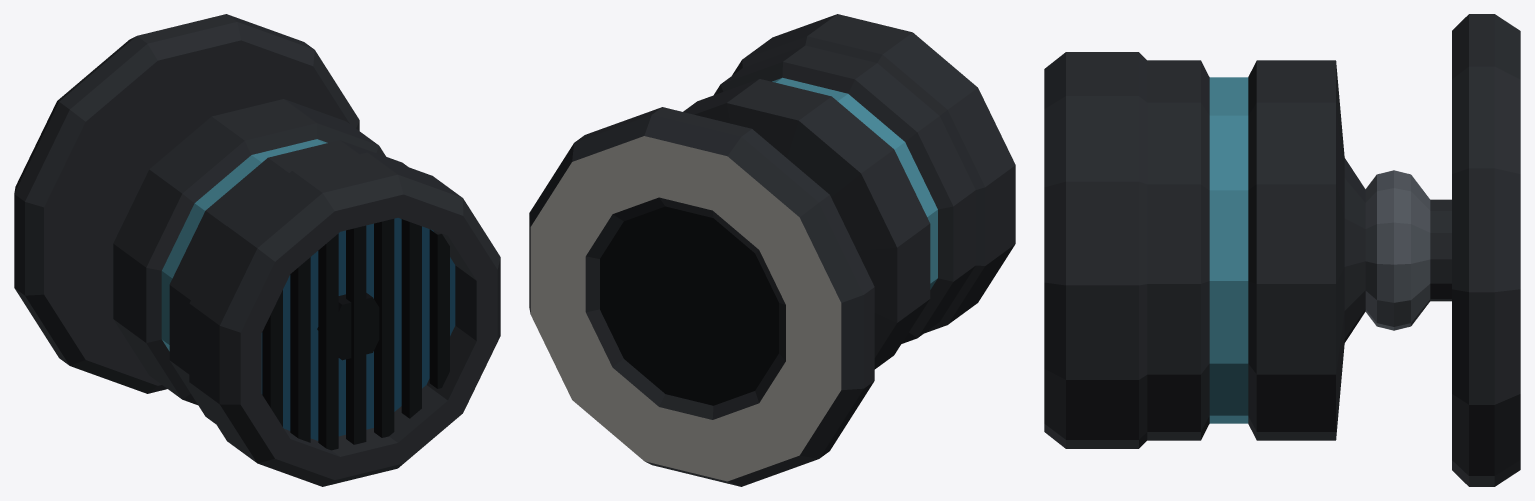
File: wavemaker-powerhead-fe0da2.glb
3 views of the same model, side by side, from view 1: azimuth 30°, elevation 25°; view 2: azimuth 150°, elevation 25°; view 3: azimuth 270°, elevation 25° (orthographic). The views are drawn at different scales.
Parts seen in each view (by area): view 1: head, mount; view 2: mount, head; view 3: head, mount.
Part boxes in pixels (x1,y1,x2,y2): head: [113, 99, 500, 486]; mount: [14, 14, 359, 393]; mount: [529, 107, 874, 486]; head: [683, 14, 1015, 369]; head: [1044, 52, 1365, 448]; mount: [1365, 14, 1520, 486].
Bounding box in the file's own units: 0.1082 × 0.1082 × 0.111.
